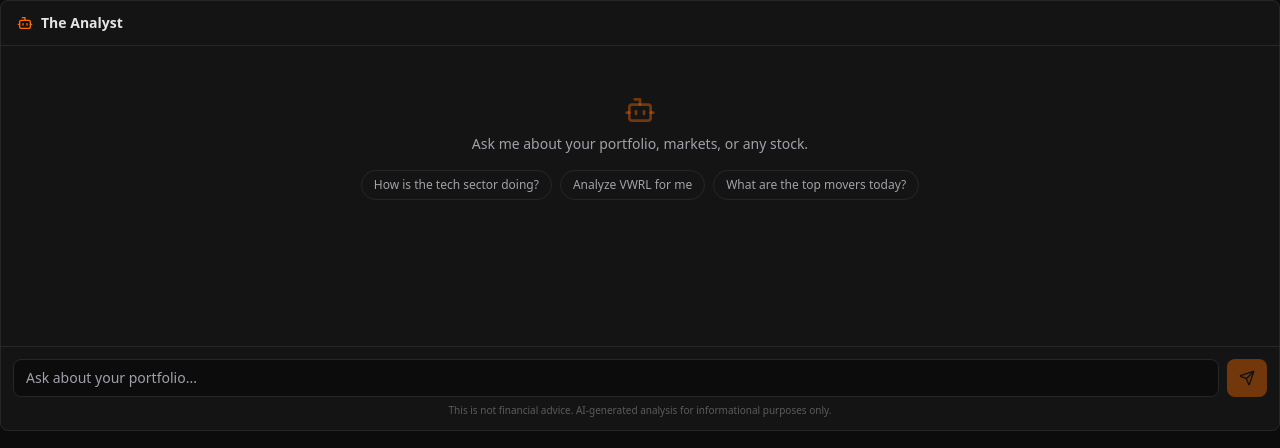
Scenario: AIChat › clicking a suggestion fills input
The width and height of the screenshot is (1280, 448).
Click the button "Analyze VWRL for me". click: point(633, 185)
box: [560,170,705,200]
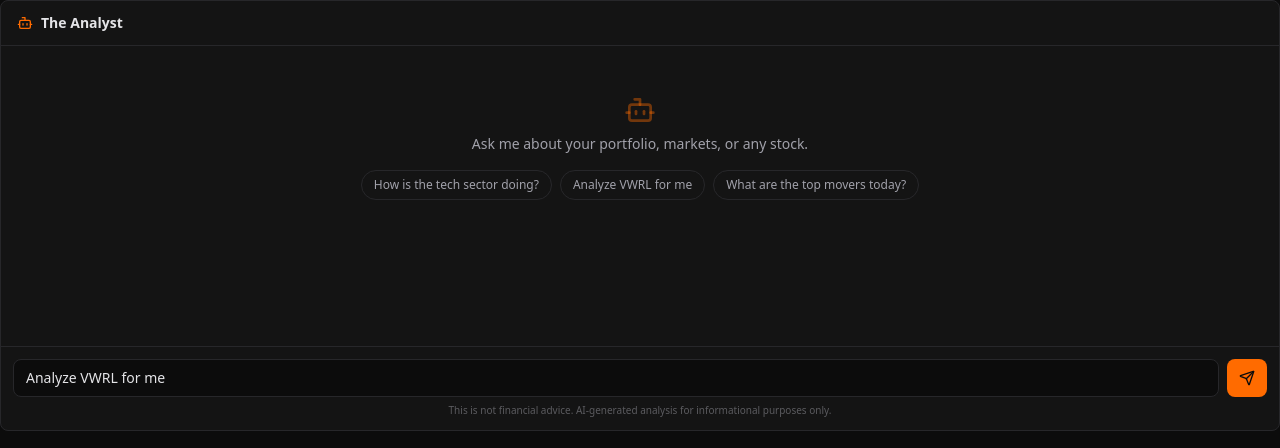
Now the field with placeholder "Ask about your portfolio..." holds "Analyze VWRL for me", box [13,359,1219,397]
